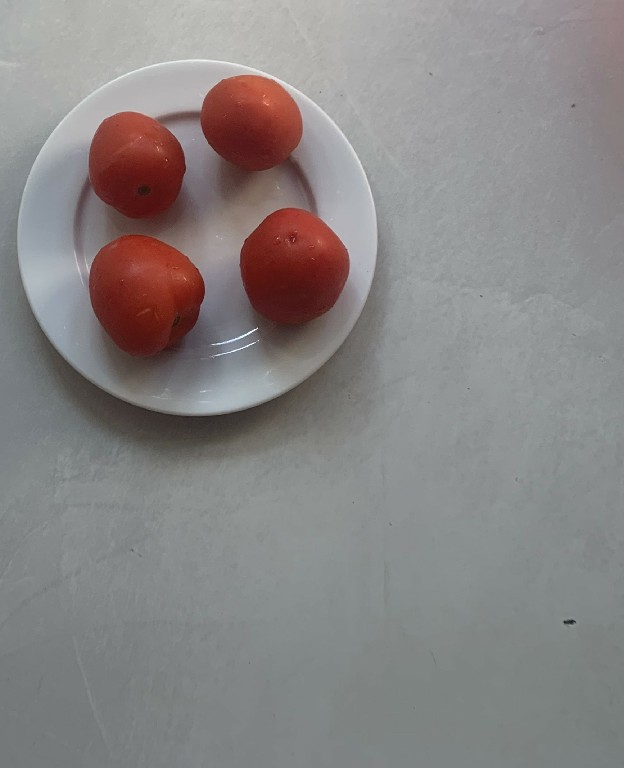OK: (89, 237, 208, 363), (237, 207, 353, 323), (84, 107, 187, 222), (200, 72, 303, 176)
